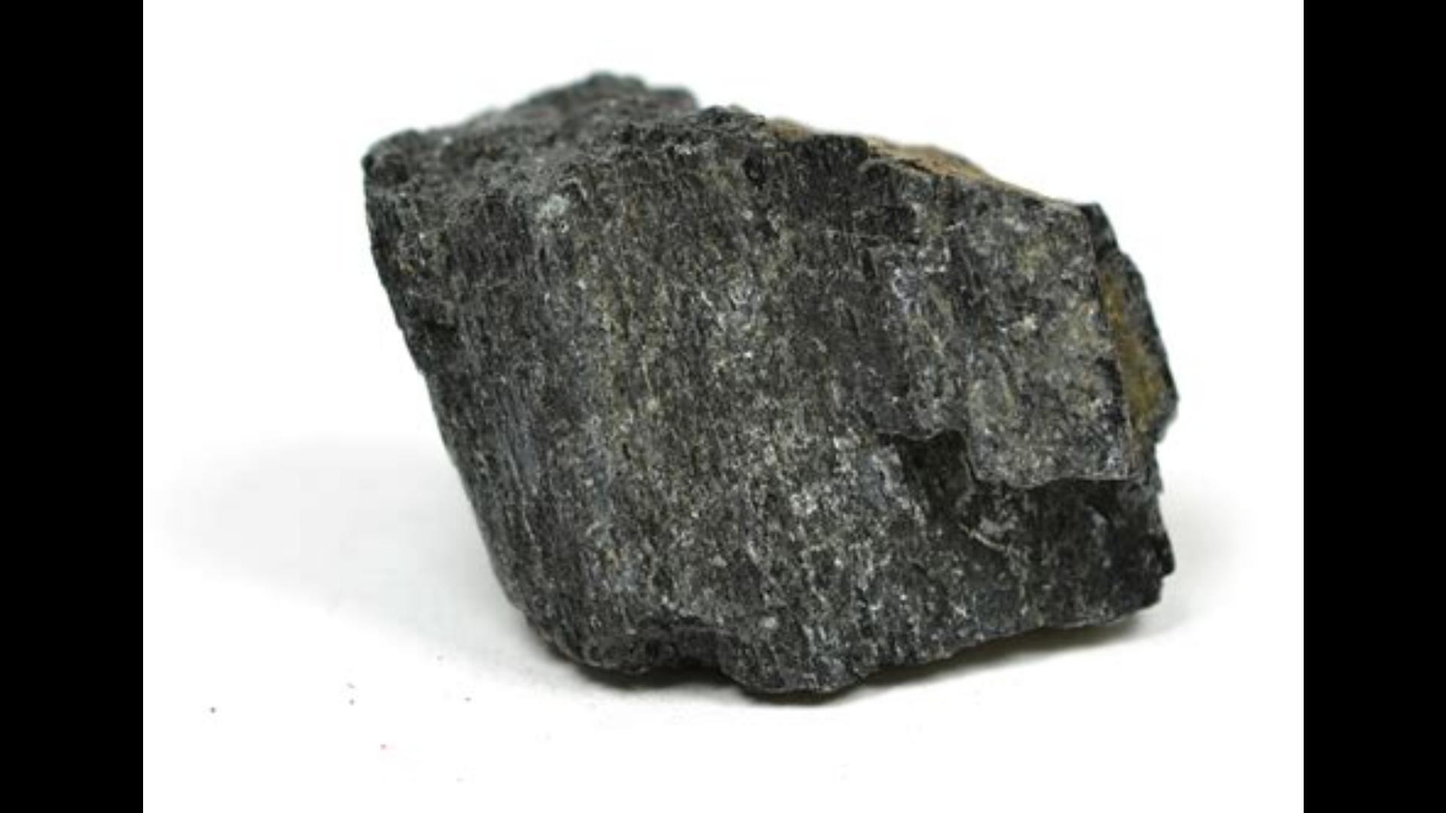rock: (365, 76, 1174, 691)
